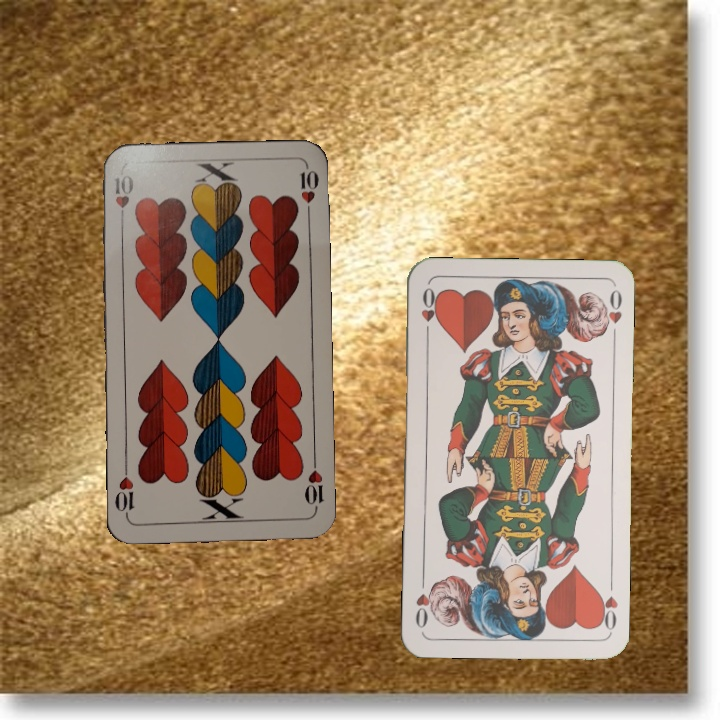H10: (301, 455, 326, 514), (111, 170, 134, 227)
HO: (594, 575, 620, 634), (417, 283, 440, 341)
